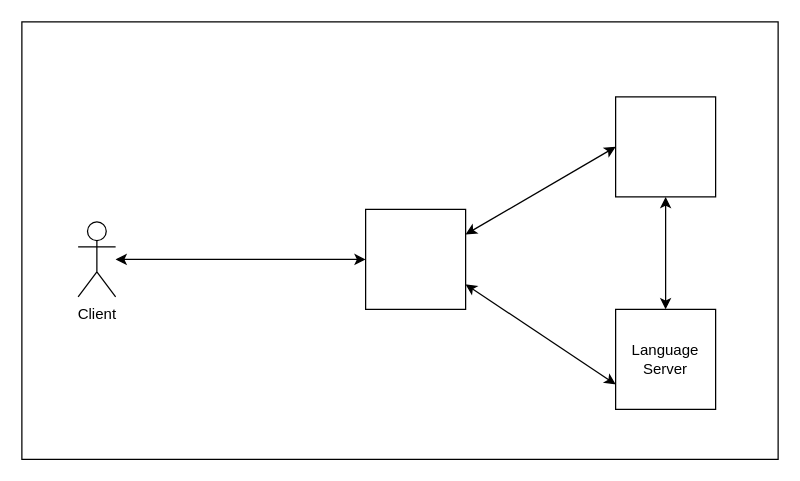
Some shapes in this 800 by 481 pixel diagram are drawn without their labels. Here are the shapes that lost their labels. From the top down, the centre of each, then its label:
At (665,146): "Files".
At (415,258): "Language Server Proxy".
